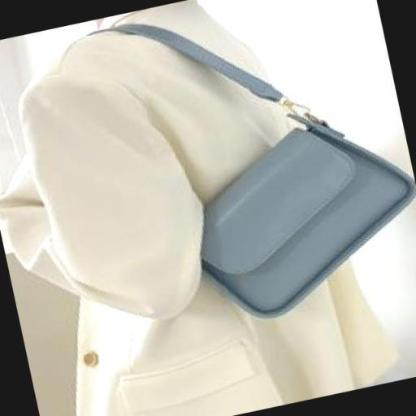bag: (171, 109, 416, 322)
